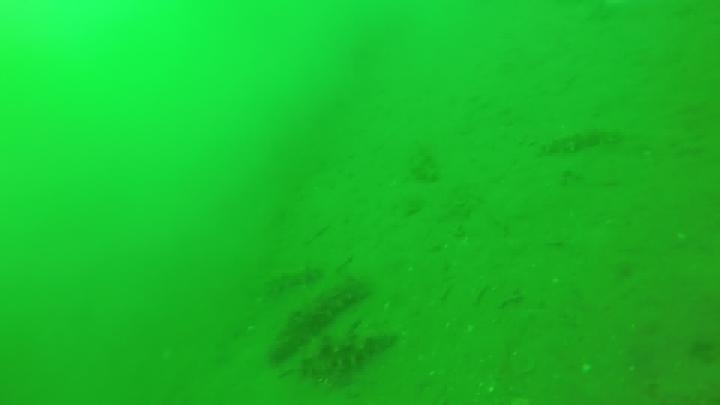holothurian: (265, 274, 369, 366), (281, 323, 400, 379), (536, 123, 625, 158), (260, 261, 326, 297)
